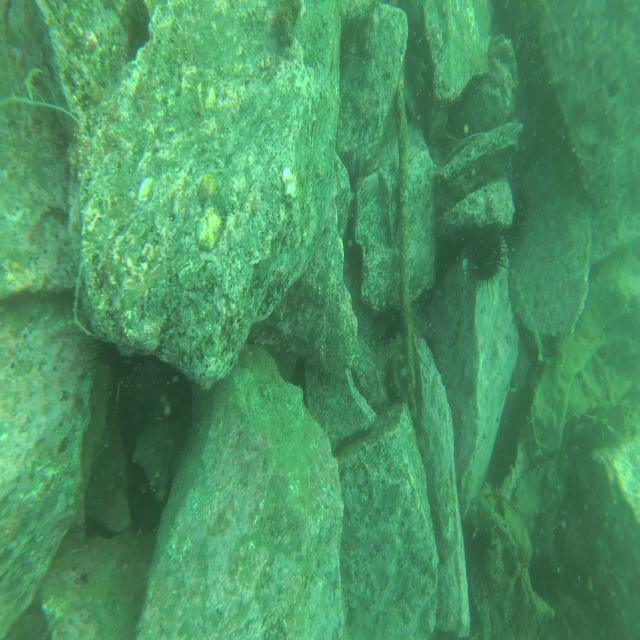echinus: (467, 224, 508, 292), (510, 184, 533, 235)
scallop: (196, 210, 226, 254), (280, 163, 306, 206)
